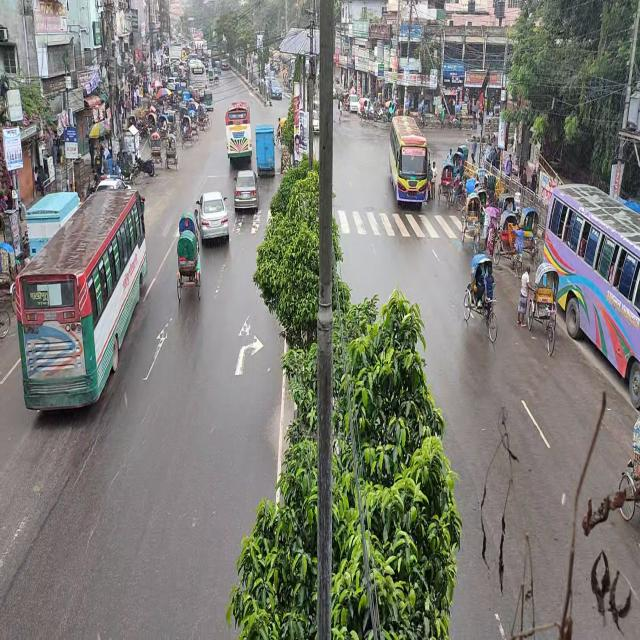silver: (199, 192, 230, 247), (235, 168, 259, 214)
